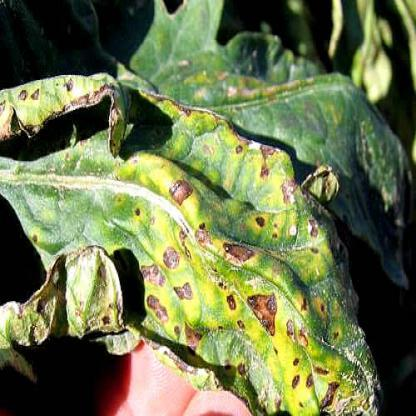Tomato Septoria leaf spot: (3, 50, 391, 412)
